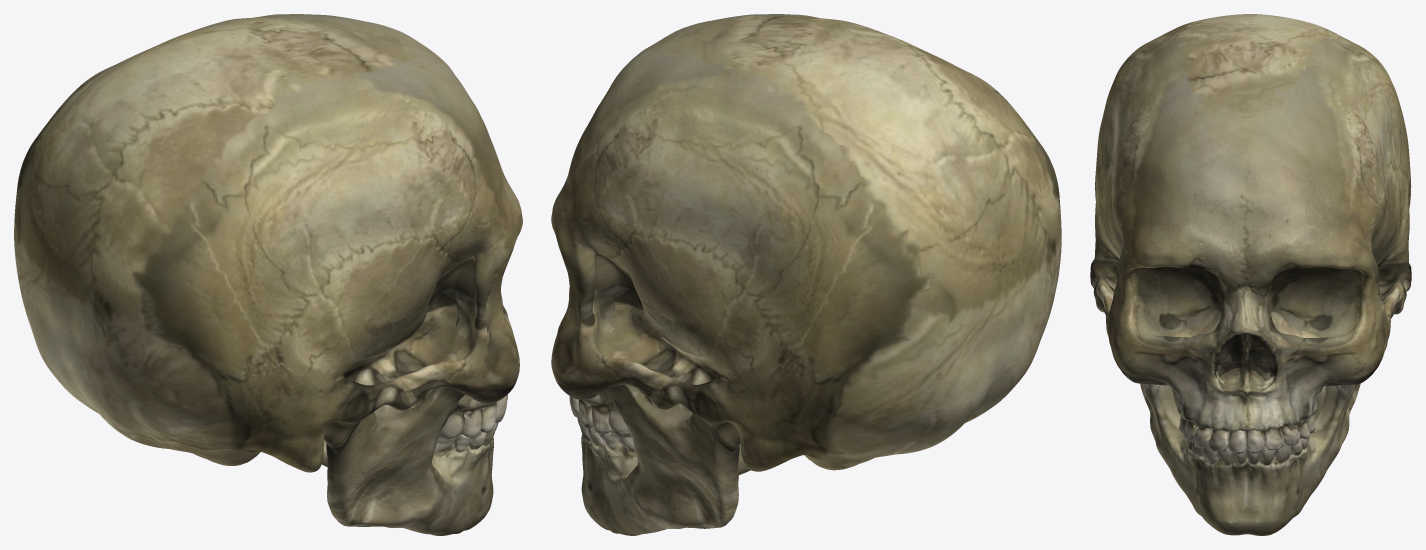
The model's file is teschioOR.fbx.
3 renders of one model, left to right at view 1: azimuth 30°, elevation 25°; view 2: azimuth 150°, elevation 25°; view 3: azimuth 270°, elevation 25°, orthographic. The views are drawn at different scales.
Parts seen in each view (by area): view 1: Female Skull; view 2: Female Skull; view 3: Female Skull.
Boxes of the visible parts, bbox=[...] form: Female Skull: bbox=[14, 14, 522, 535]; Female Skull: bbox=[551, 14, 1061, 535]; Female Skull: bbox=[1090, 14, 1411, 535].
Bounding box in the file's own units: 20.9 × 23.51 × 16.38.
2 materials, 2 textured.
